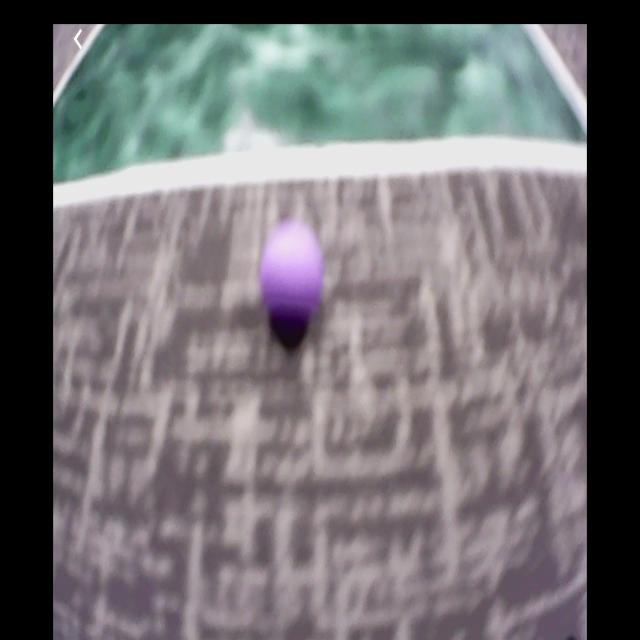ball: (263, 223, 324, 322)
